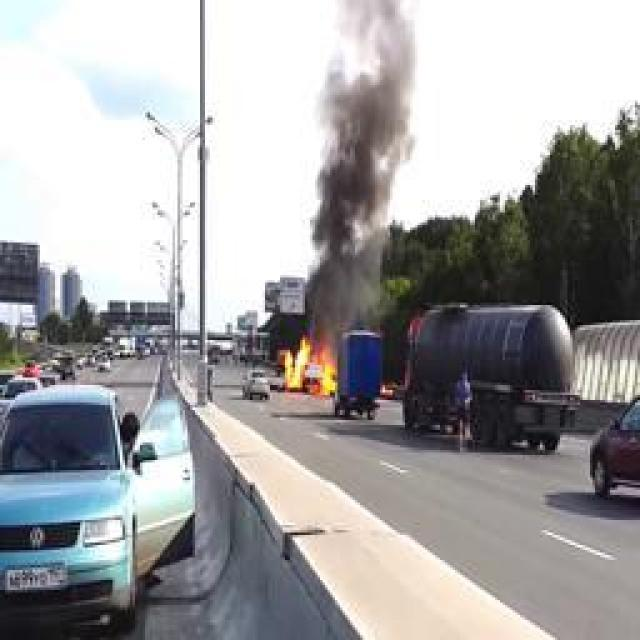Fire: (282, 338, 338, 396)
